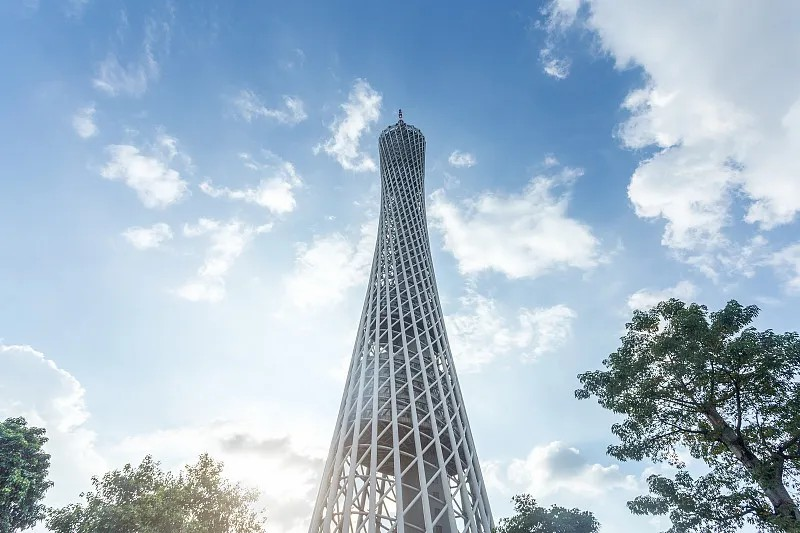Canton: (310, 107, 497, 533)
